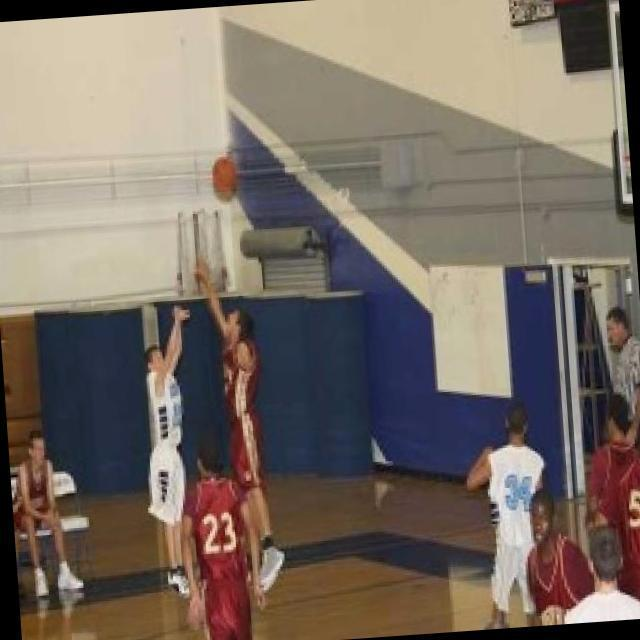ball: (202, 148, 246, 208)
